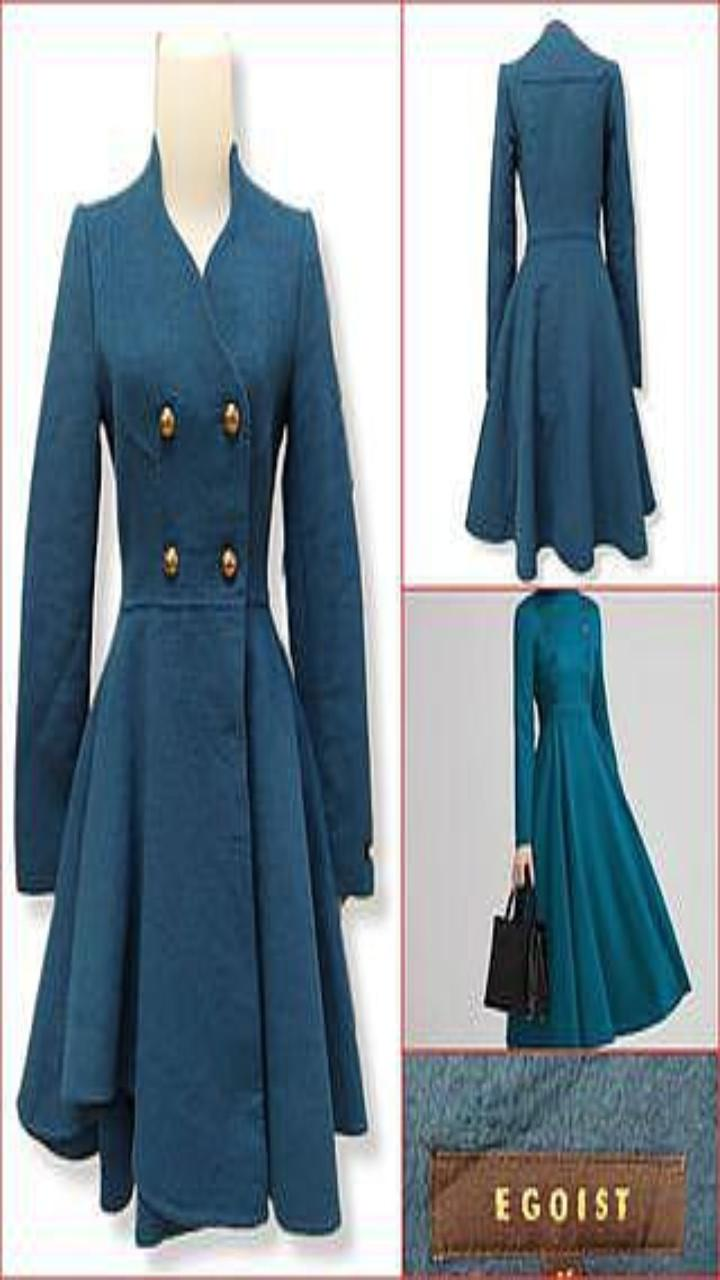Dresses: (17, 143, 372, 1243), (467, 22, 654, 578), (508, 590, 688, 1047)
